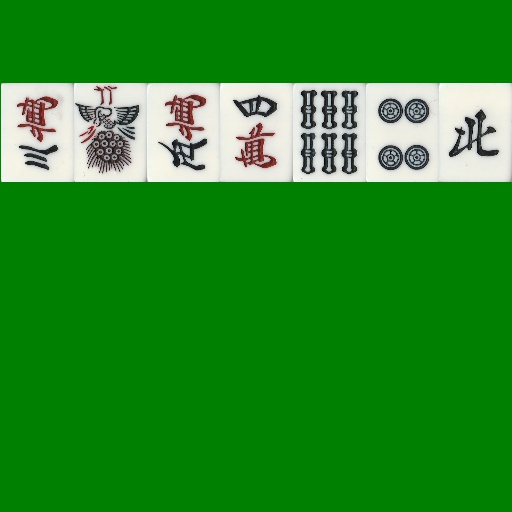1s: (74, 83, 147, 182)
3m: (1, 83, 74, 182)
4m: (220, 83, 293, 182)
4p: (366, 83, 439, 182)
5m: (147, 83, 220, 182)
6s: (293, 83, 366, 182)
north: (439, 83, 512, 182)
